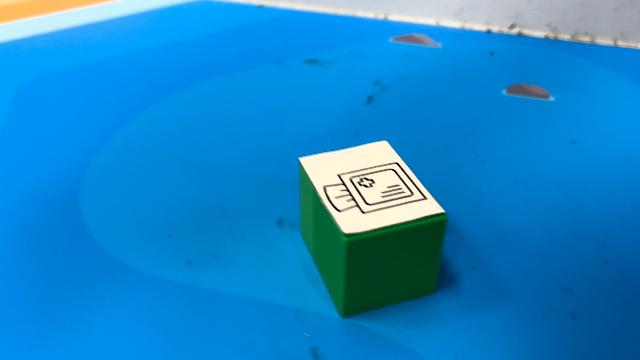napkin: (296, 138, 452, 320)
